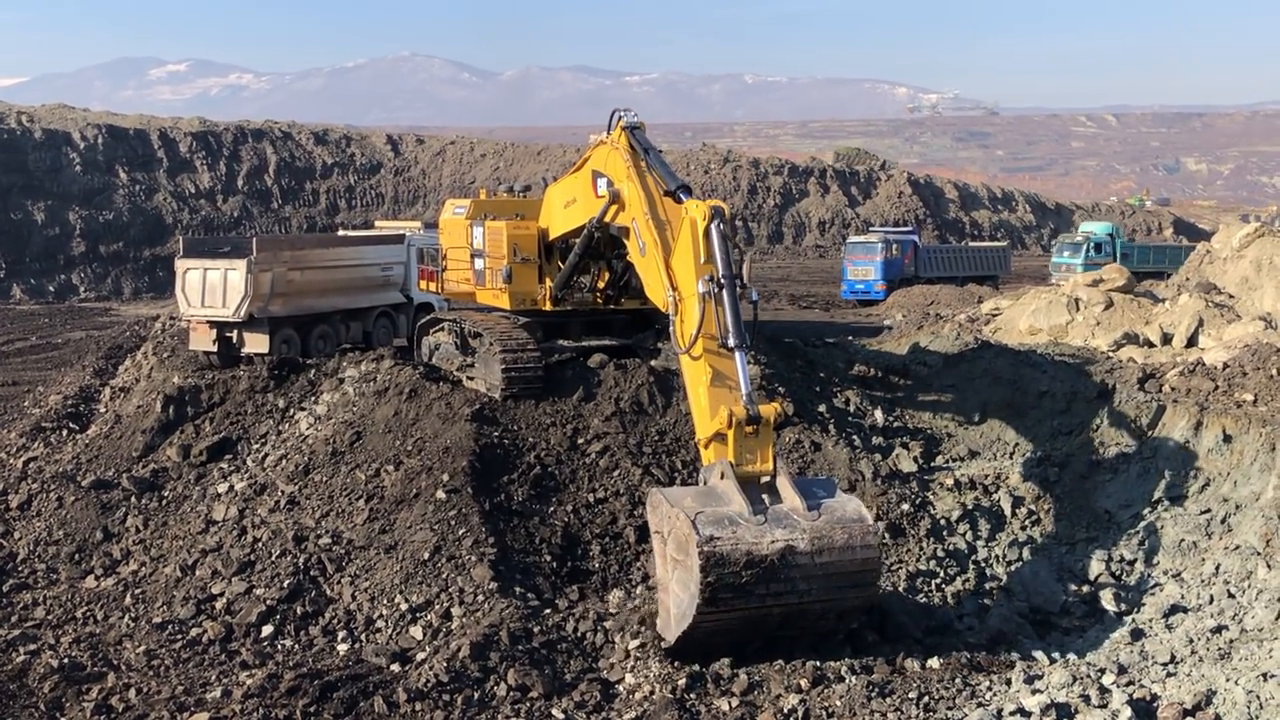full: (628, 464, 888, 658)
